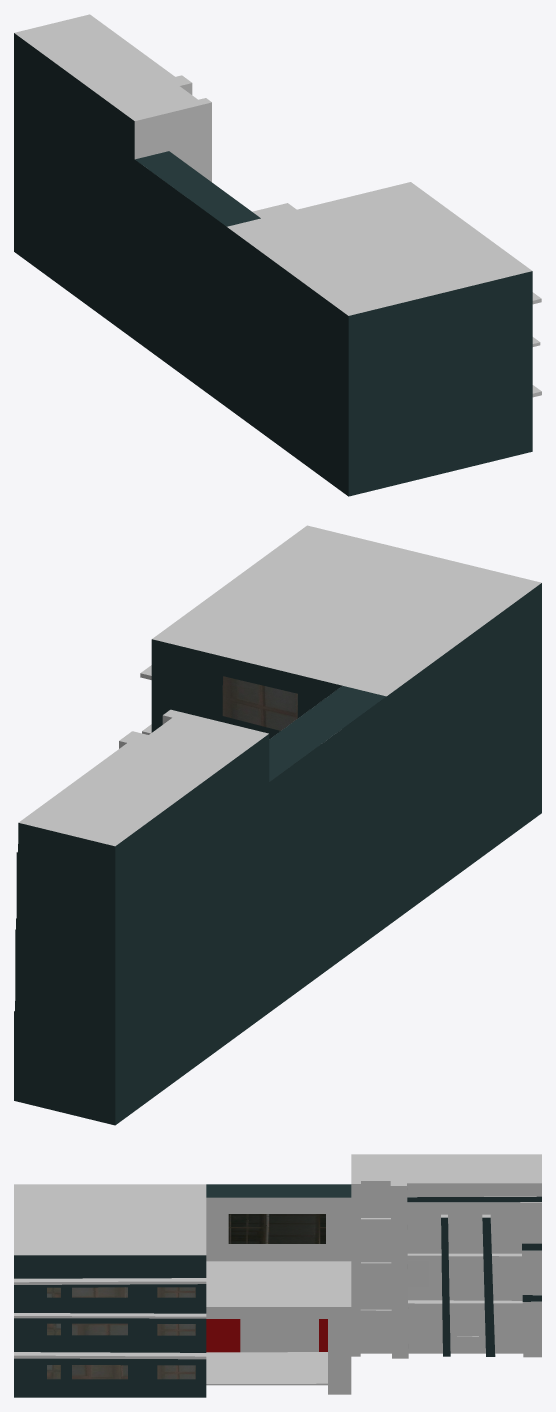
File: LectureHall.fbx
The picture shows the model from 3 angles, top to bottom: view 1: azimuth 30°, elevation 25°; view 2: azimuth 150°, elevation 25°; view 3: azimuth 270°, elevation 25°; orthographic projection. The views are drawn at different scales.
Parts seen in each view (by area): view 1: Cube; view 2: Cube; view 3: Cube.
Boxes of the visible parts, left/top/right/bottom form: Cube: left=14, top=14, right=541, bottom=496; Cube: left=14, top=525, right=541, bottom=1125; Cube: left=14, top=1154, right=541, bottom=1397.
Bounding box in the file's own units: 555 × 631 × 1663.
